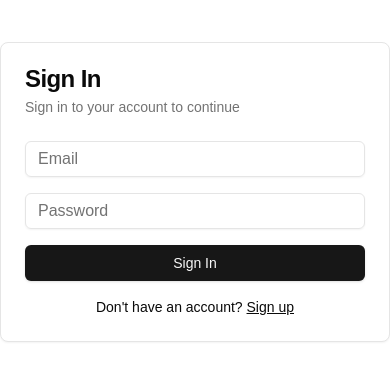
Test case: LoginPage › displays error when sign in throws
Type "a@b.com" into the field with placeholder "Email".
click(195, 159); type("a@b.com")  # box [25, 141, 365, 177]
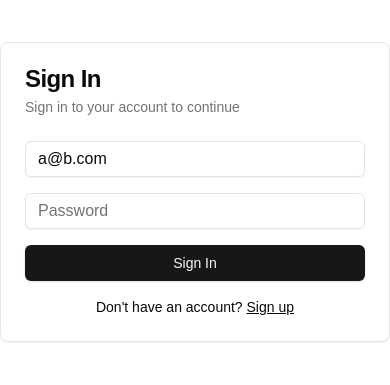
Type "x" into the password field with placeholder "Password".
click(195, 211); type("x")  # box [25, 193, 365, 229]
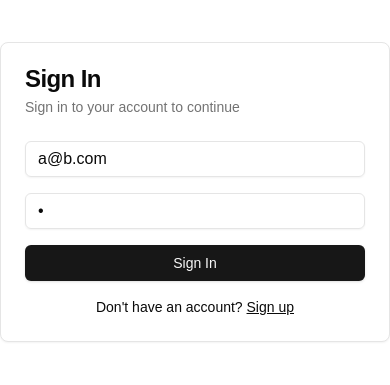
Submit the form with placeholder "Email", box [25, 141, 365, 281]
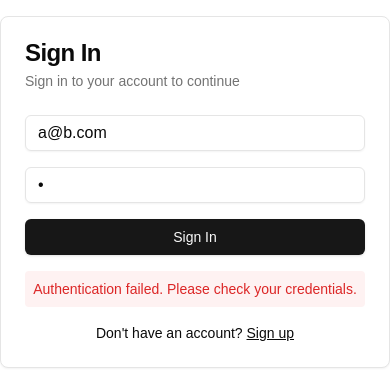
Now the text "Authentication failed. Please check your credentials." is shown, box [25, 271, 365, 307]
